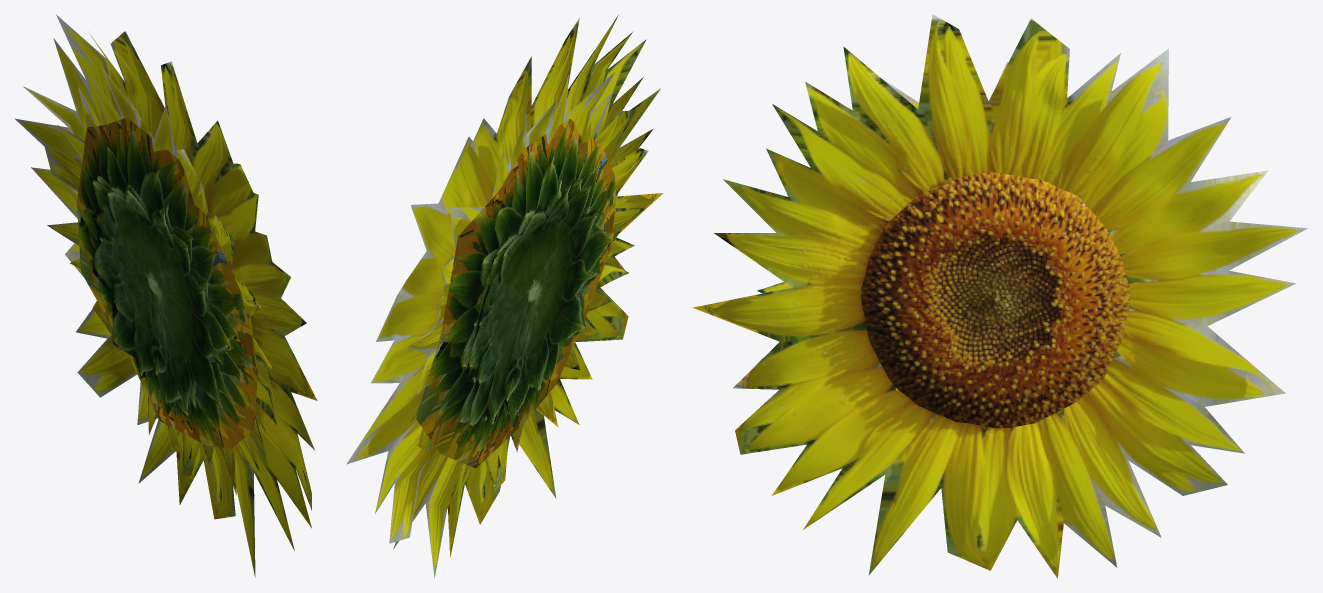
File: wwwunderkammer_Regine_Asset_sunflowerHead.glb
The picture shows the model from 3 angles, left to right: view 1: azimuth 30°, elevation 25°; view 2: azimuth 150°, elevation 25°; view 3: azimuth 270°, elevation 25°; orthographic projection. The views are drawn at different scales.
Visible parts, largest first — view 1: extrudedSurface2; view 2: extrudedSurface2; view 3: extrudedSurface2.
Part boxes in pixels (left/top/right/bottom): extrudedSurface2: left=15, top=14, right=317, bottom=577; extrudedSurface2: left=346, top=15, right=663, bottom=577; extrudedSurface2: left=693, top=14, right=1307, bottom=578.
Size of the model in its own units: 0.1317 by 0.7272 by 0.7597.
1 material, 1 textured.
